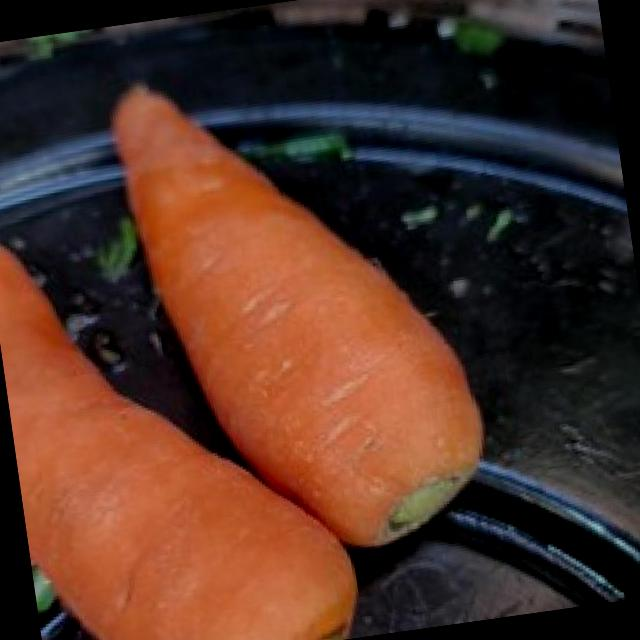carrot: (114, 88, 483, 546), (0, 246, 356, 640)
